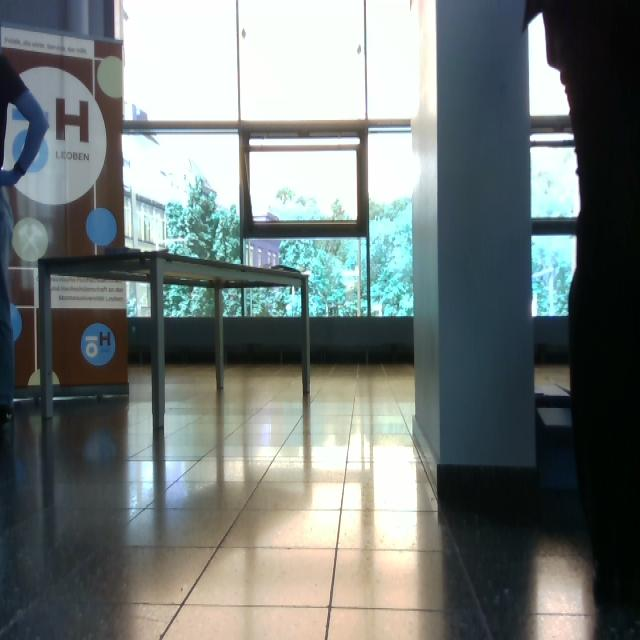light bulb: (12, 304, 23, 342)
person: (525, 1, 640, 578)
pillar: (412, 1, 536, 489)
table: (39, 249, 310, 429)
tiled floor: (1, 366, 640, 640)
tree: (271, 198, 413, 316), (168, 177, 241, 264), (532, 237, 573, 316), (271, 189, 350, 220), (225, 288, 300, 317), (167, 285, 214, 317)
window: (125, 1, 416, 121), (243, 132, 412, 316), (124, 132, 241, 264), (252, 152, 355, 220), (531, 132, 579, 220), (529, 20, 569, 116), (534, 236, 576, 317), (246, 288, 300, 316), (166, 286, 213, 317), (128, 284, 150, 317)
